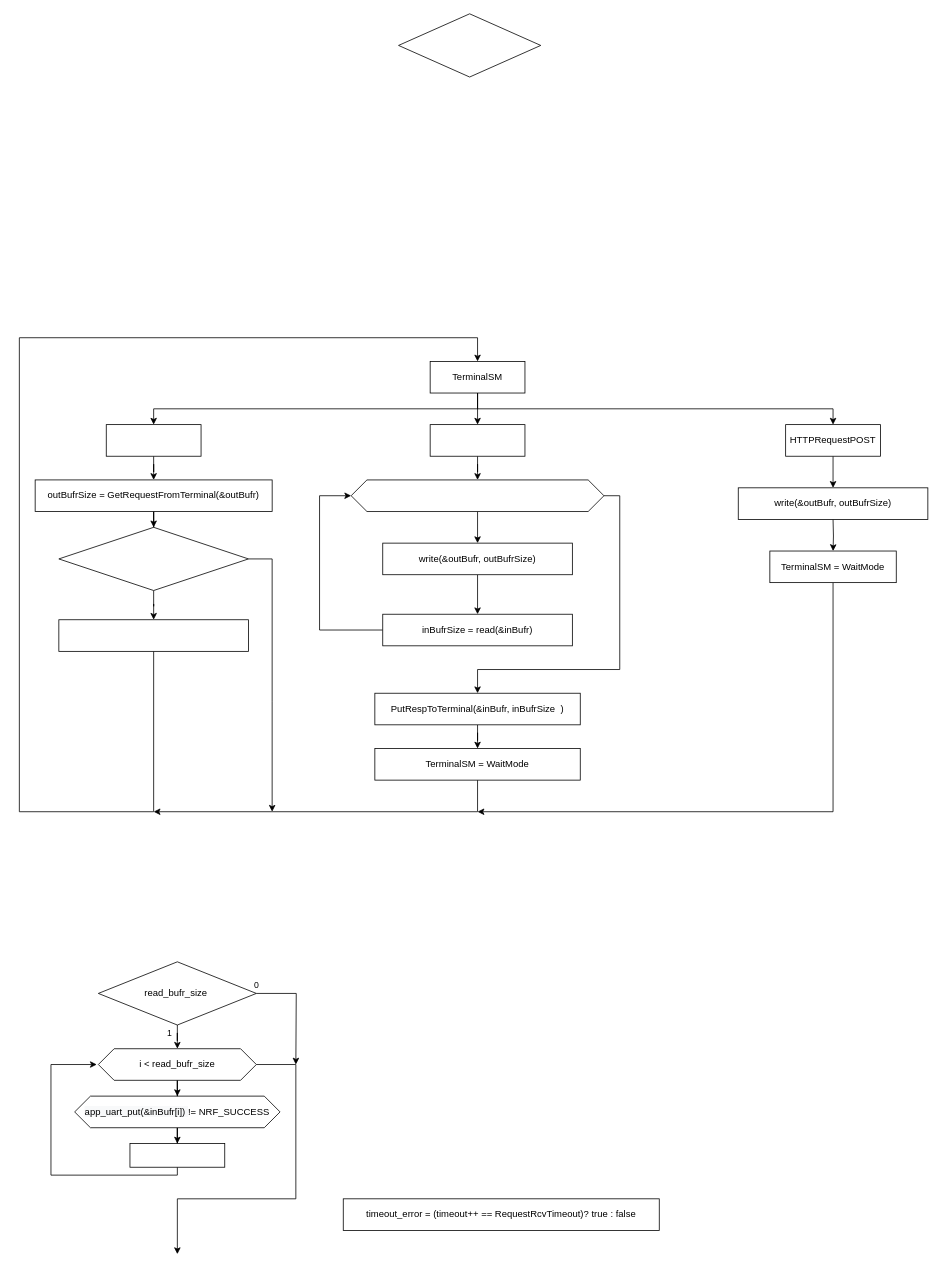
Some shapes in this 942 by 1274 pixel diagram are drawn without their labels. Here are the shapes that lost their labels. From the top down, the centre of each, then its label:
point (469, 45): if(open())
point (153, 440): WaitMode
point (477, 440): HTTPRequestGET
point (477, 495): !inBufrSize && RequestRetransmit--
point (153, 559): outBufrSize
point (153, 635): TerminalSM = ParseTerminalCmd(&outBufr)
point (177, 1155): i++
